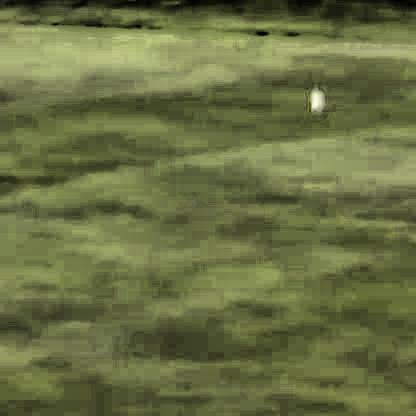golfball: (306, 84, 322, 106)
